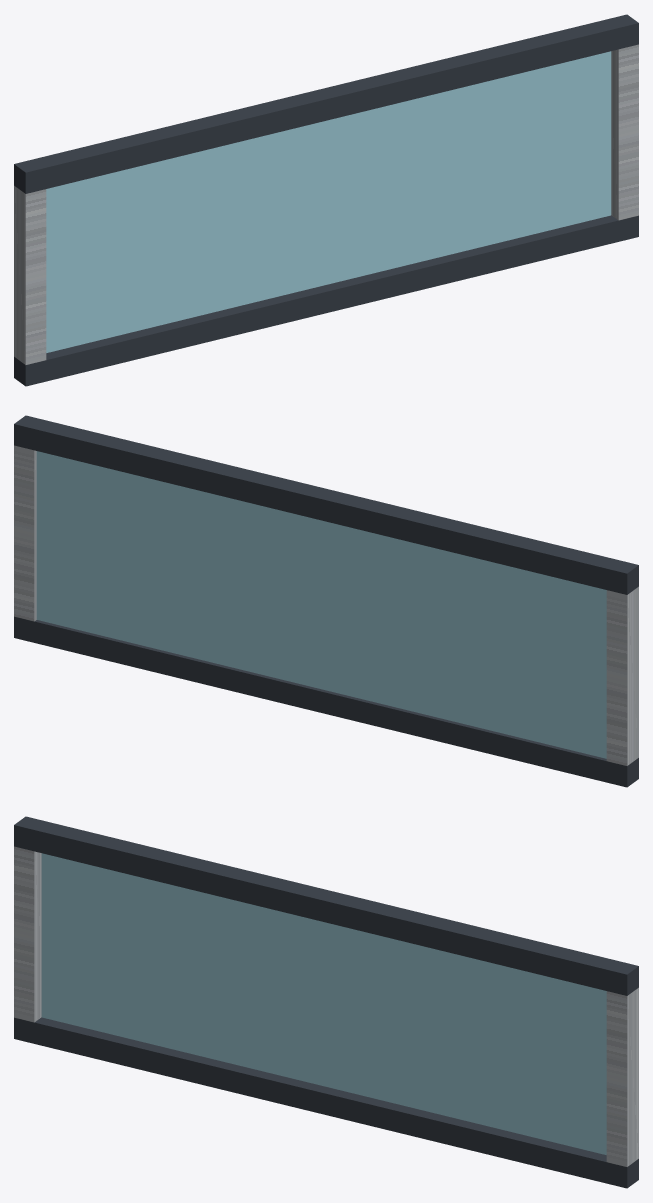
File: glass-3x1.glb
3 renders of one model, top to bottom at view 1: azimuth 30°, elevation 25°; view 2: azimuth 150°, elevation 25°; view 3: azimuth 330°, elevation 25°, orthographic.
Parts seen in each view (by area): view 1: Glass3x1; view 2: Glass3x1; view 3: Glass3x1.
Part boxes in pixels (box(x1,y1,x2,y2)): Glass3x1: box(14, 14, 638, 386); Glass3x1: box(14, 415, 638, 787); Glass3x1: box(14, 816, 638, 1188).
Size of the model in its own units: 3 by 1 by 0.1.
Materials: 3 (1 with a texture image).
